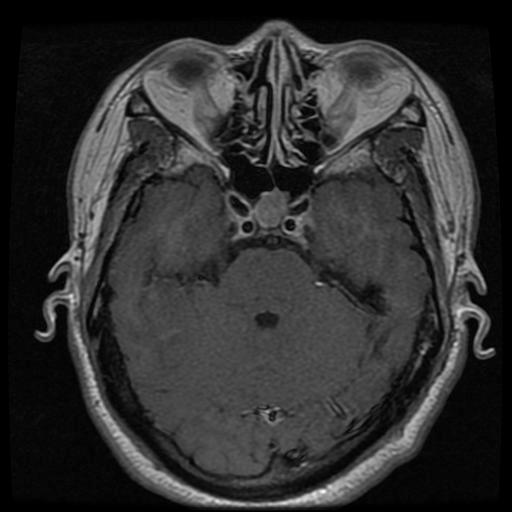Tumour-Pituitary: (224, 193, 321, 247)
